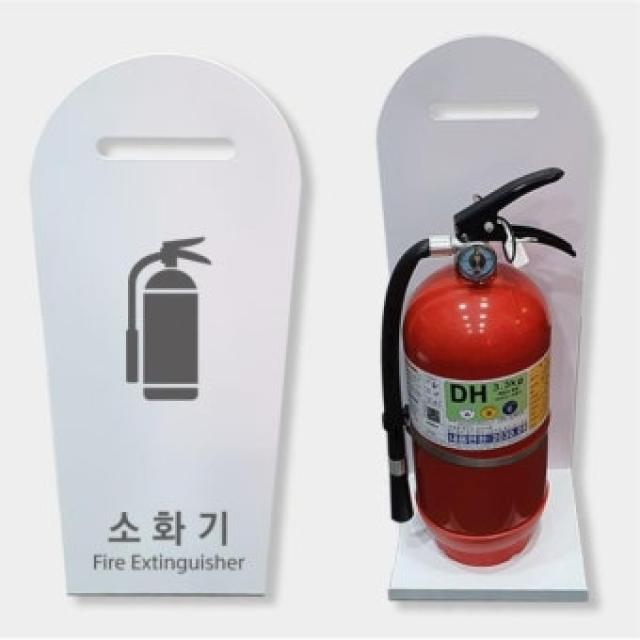pressure gauge: (456, 243, 495, 282)
